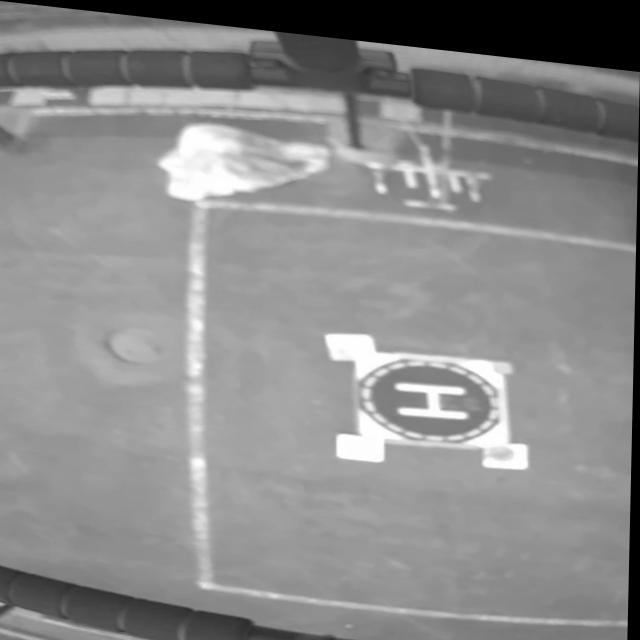Helipad: (396, 371, 472, 409)
